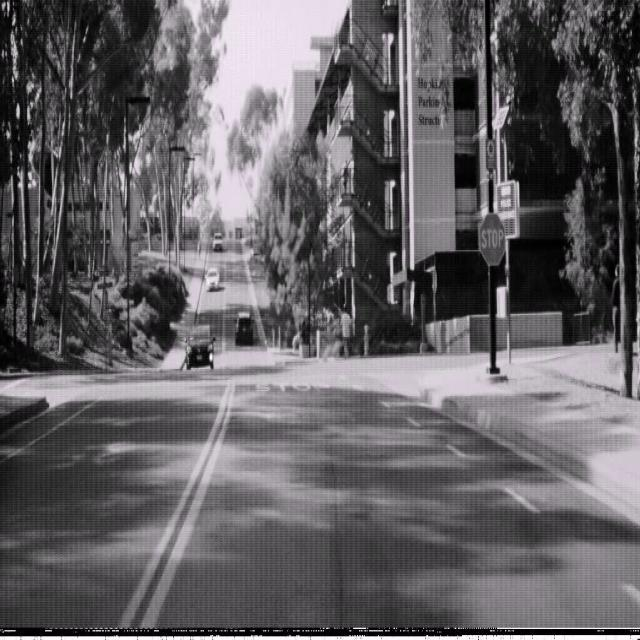stop_sign: (478, 211, 506, 266)
